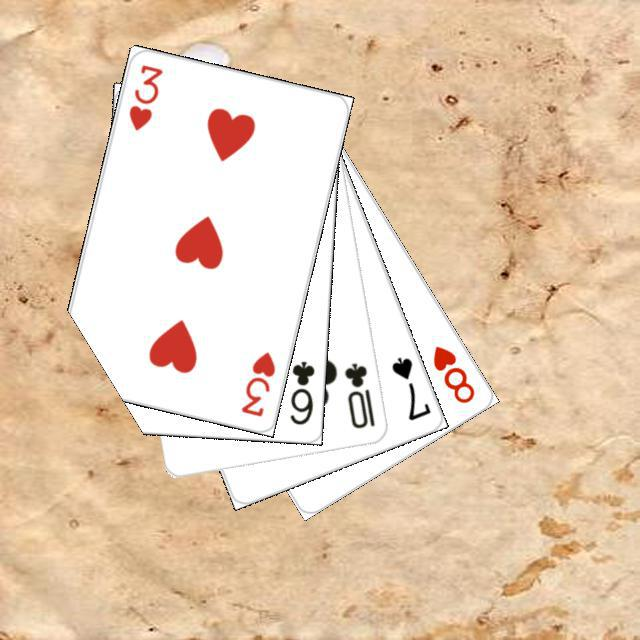10c: (339, 358, 377, 431)
3h: (236, 346, 277, 419), (124, 60, 165, 133)
6c: (285, 356, 317, 427)
7s: (386, 352, 432, 422)
8h: (427, 341, 477, 406)
